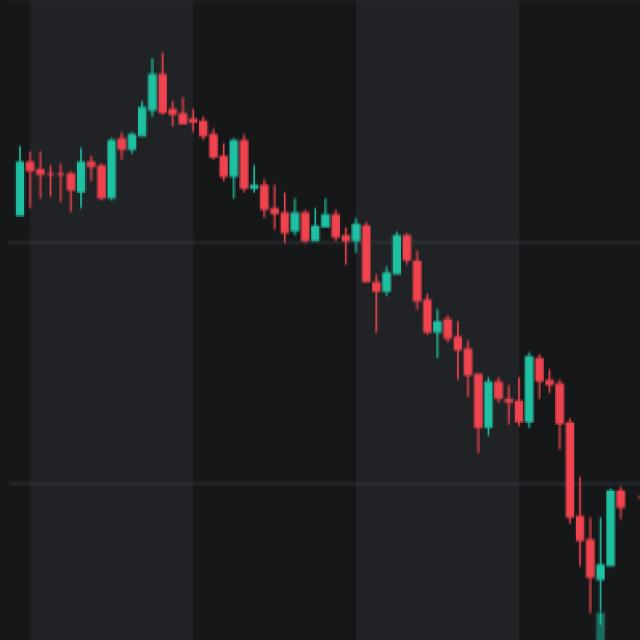Support-breakout: (92, 64, 484, 428)
